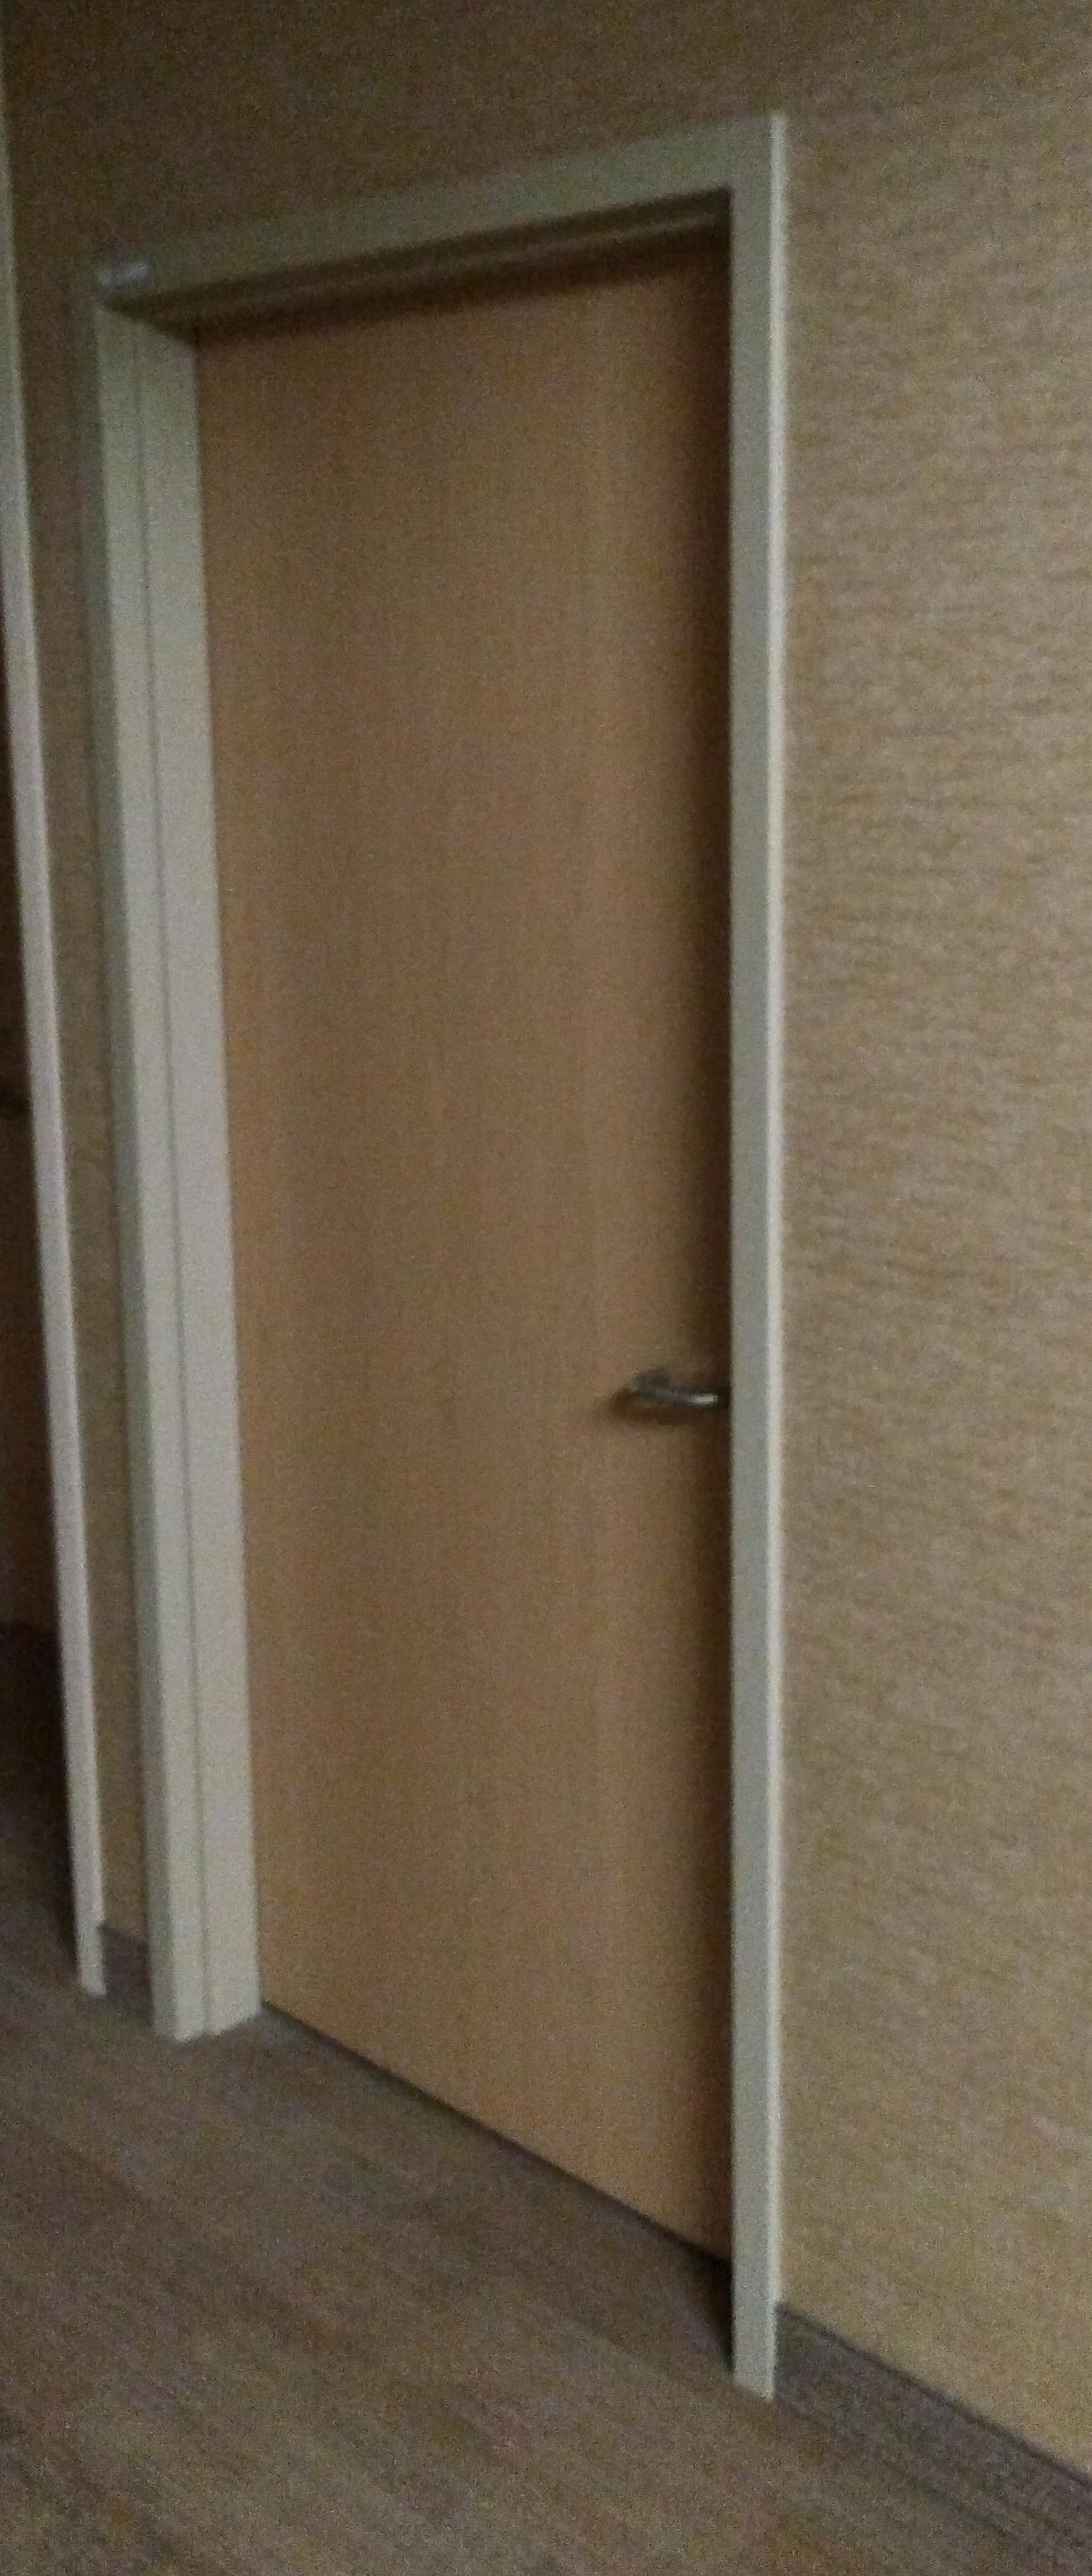door: (112, 258, 758, 2256)
